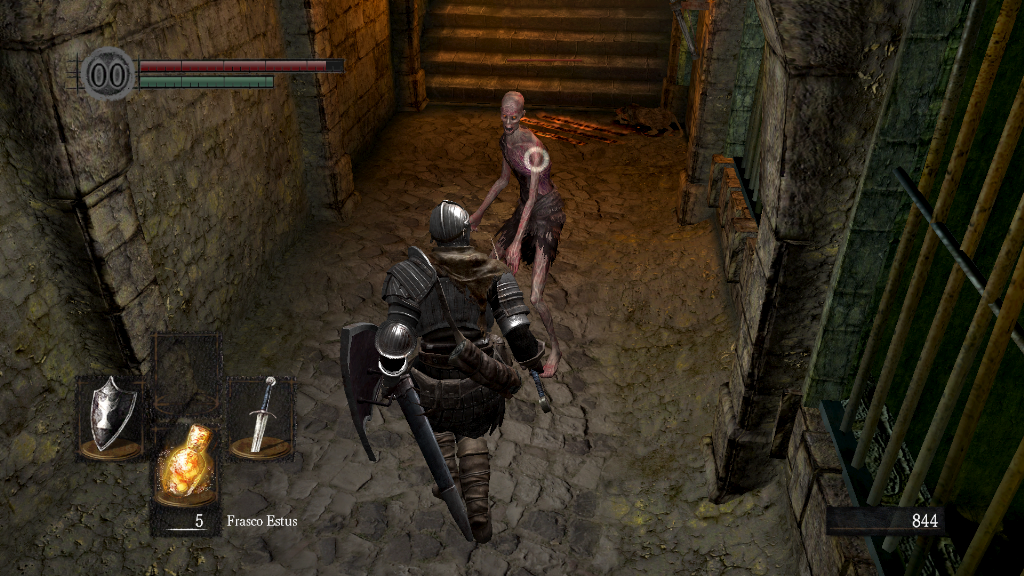health: (138, 58, 343, 71)
hollow: (463, 89, 566, 380)
humanity: (80, 45, 136, 102)
player: (338, 200, 555, 545)
souls: (825, 506, 945, 536)
stamina: (138, 74, 274, 88)
